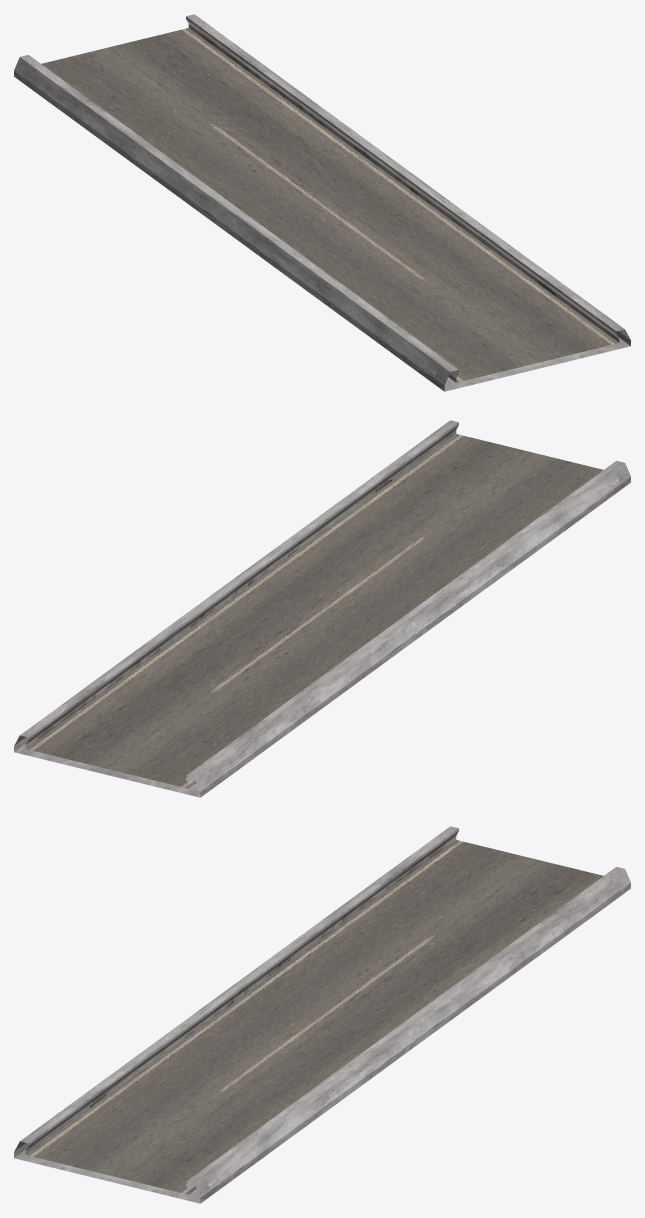
File: straight4.glb
3 renders of one model, top to bottom at view 1: azimuth 30°, elevation 25°; view 2: azimuth 150°, elevation 25°; view 3: azimuth 330°, elevation 25°, orthographic.
Visible parts, largest first — view 1: road-Straight-Flat-Flat-Even-Center-Size4; view 2: road-Straight-Flat-Flat-Even-Center-Size4; view 3: road-Straight-Flat-Flat-Even-Center-Size4.
Boxes of the visible parts, box(x1,y1,x2,y2) form: road-Straight-Flat-Flat-Even-Center-Size4: box(14, 14, 630, 391); road-Straight-Flat-Flat-Even-Center-Size4: box(14, 420, 630, 797); road-Straight-Flat-Flat-Even-Center-Size4: box(14, 826, 630, 1203).
Size of the model in its own units: 1 by 0.0938 by 4.
2 materials, 2 textured.
